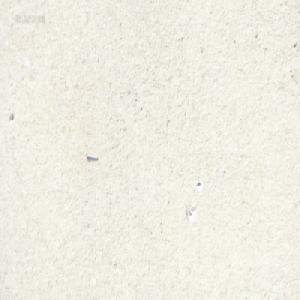Nail: (85, 151, 98, 159)
